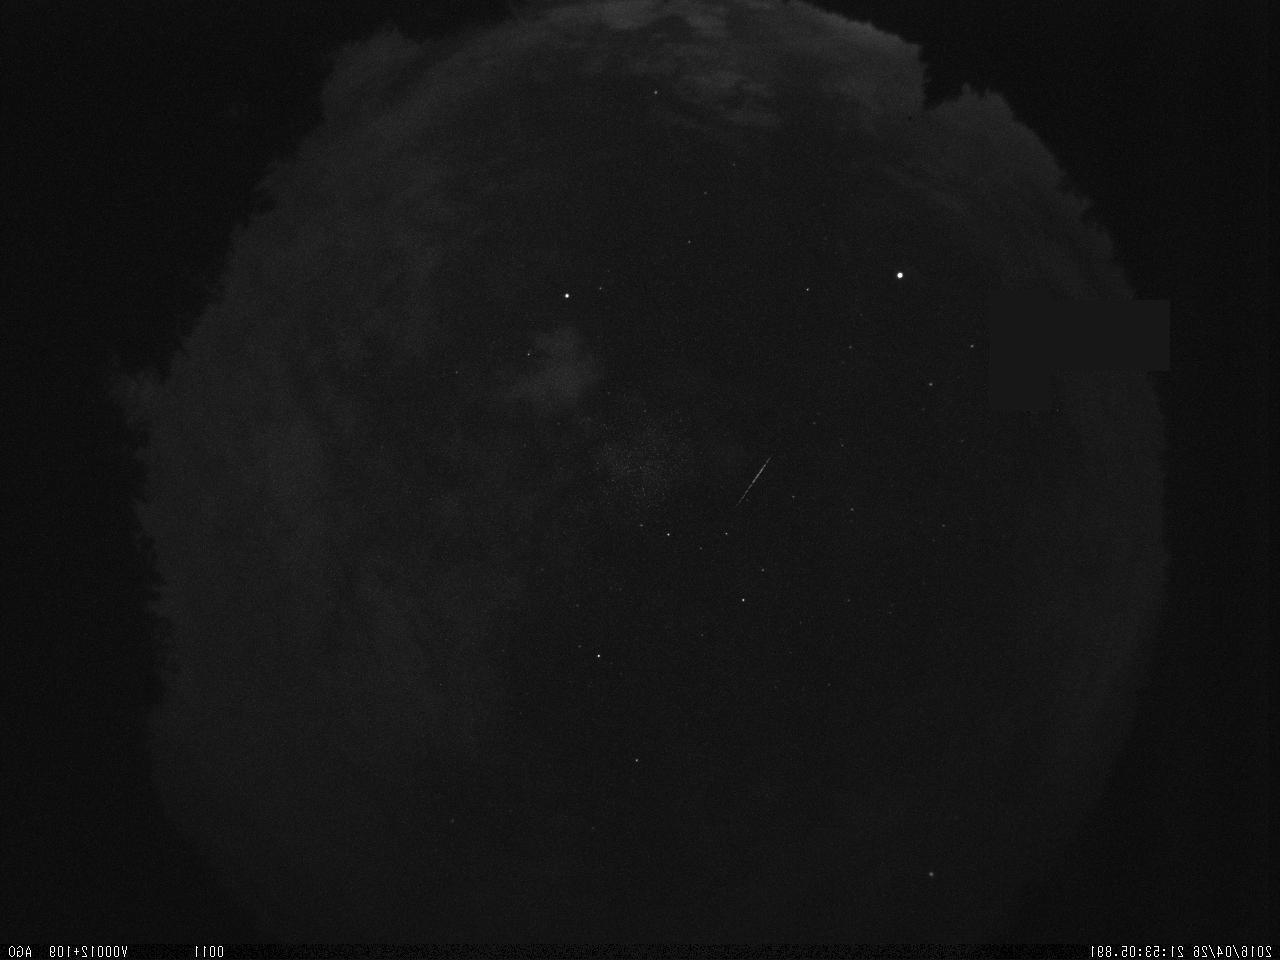meteor: (715, 438, 791, 519)
